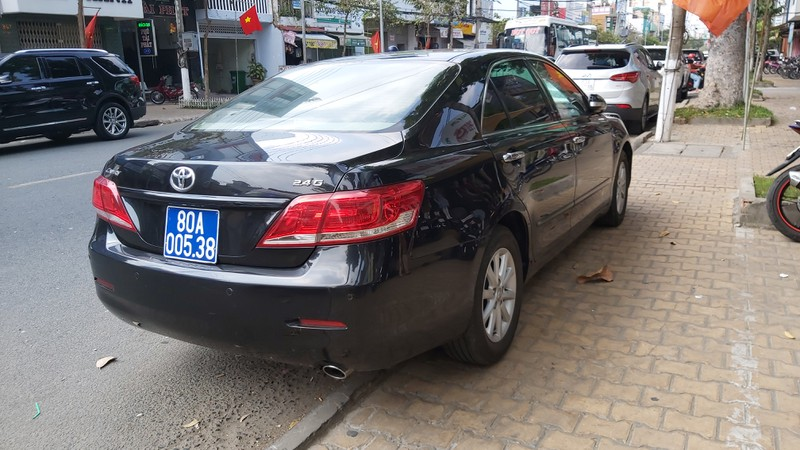plate: (160, 202, 221, 265)
